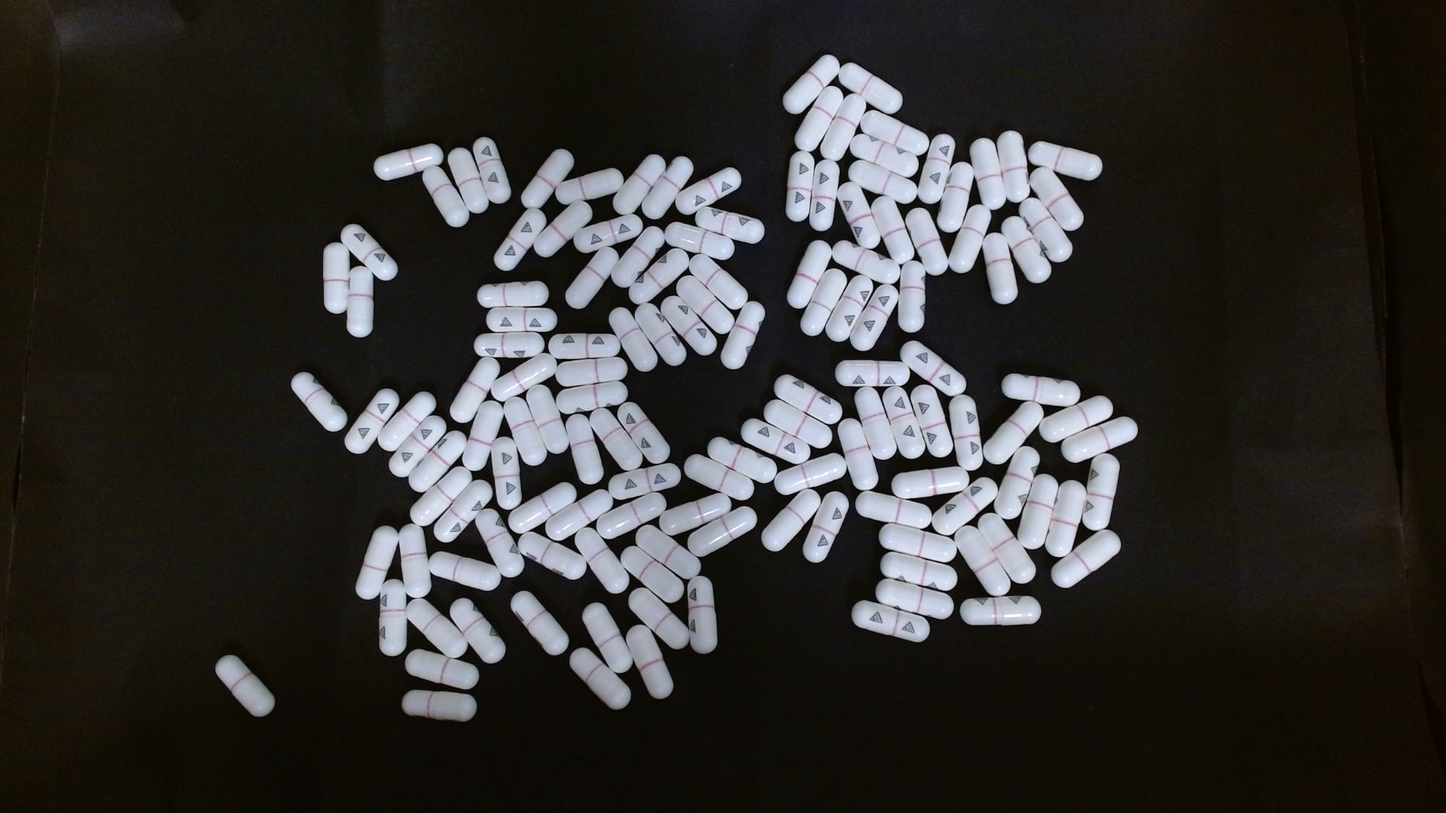Capsule: (978, 511, 1038, 586), (953, 523, 1014, 595), (1051, 529, 1122, 590), (431, 474, 493, 542), (930, 475, 999, 536), (406, 595, 470, 660), (627, 586, 688, 654), (535, 197, 603, 258), (1057, 414, 1139, 464), (410, 464, 473, 529), (762, 488, 822, 556), (634, 523, 703, 582), (1017, 196, 1075, 266), (620, 544, 686, 605), (1027, 165, 1086, 233), (640, 151, 696, 222), (214, 654, 276, 718), (475, 508, 530, 580), (377, 388, 436, 455), (899, 340, 968, 397), (573, 526, 630, 595), (1039, 394, 1116, 445), (676, 273, 737, 337), (510, 590, 569, 656), (609, 224, 668, 290), (566, 245, 624, 312), (685, 505, 758, 558), (580, 602, 633, 675), (388, 414, 448, 478), (408, 429, 467, 494), (544, 487, 615, 541), (626, 247, 692, 305), (763, 398, 835, 451), (510, 481, 578, 537), (517, 529, 587, 583), (984, 400, 1043, 464), (686, 253, 750, 312), (589, 406, 645, 473), (992, 444, 1040, 522), (343, 387, 398, 455), (837, 59, 905, 114), (660, 294, 717, 359), (775, 374, 845, 426), (611, 152, 667, 217), (606, 303, 658, 373), (617, 401, 672, 467), (868, 195, 917, 269), (570, 647, 629, 708), (853, 385, 898, 464), (519, 147, 576, 209), (848, 157, 920, 206), (706, 436, 778, 485), (674, 166, 743, 217), (450, 596, 504, 661), (682, 454, 755, 502), (800, 266, 850, 336), (861, 106, 931, 156), (1017, 472, 1060, 553), (741, 417, 815, 464), (879, 523, 958, 567), (449, 357, 500, 425), (660, 490, 737, 535), (818, 93, 868, 162), (633, 301, 685, 367), (340, 222, 397, 282), (490, 352, 557, 403), (291, 372, 346, 434), (495, 207, 549, 270), (1045, 479, 1088, 558), (355, 523, 399, 600), (829, 275, 876, 347), (719, 301, 768, 370), (429, 550, 504, 595), (793, 86, 844, 152), (851, 599, 931, 641), (802, 492, 850, 562), (627, 626, 673, 699), (880, 548, 958, 591), (502, 396, 549, 467), (881, 385, 925, 460), (1001, 215, 1048, 285), (597, 492, 667, 539), (462, 398, 506, 472), (849, 131, 919, 177), (834, 182, 880, 252), (830, 239, 898, 286), (947, 202, 992, 273), (905, 207, 950, 278), (663, 220, 739, 262), (781, 57, 837, 114), (772, 453, 844, 497), (606, 462, 683, 503), (959, 592, 1044, 629), (836, 417, 879, 490), (1079, 452, 1120, 528), (917, 133, 960, 204), (526, 384, 569, 455), (875, 578, 953, 617), (405, 649, 479, 690), (853, 282, 898, 349), (789, 239, 832, 309), (981, 231, 1021, 306), (694, 205, 767, 246), (1029, 139, 1103, 179), (564, 412, 605, 484), (936, 160, 975, 235), (422, 166, 468, 228), (856, 490, 931, 528), (472, 136, 512, 207), (572, 213, 643, 253), (911, 385, 951, 455), (969, 136, 1006, 211), (947, 394, 985, 467), (554, 167, 624, 206), (892, 466, 966, 502), (1002, 372, 1080, 406), (450, 148, 490, 213), (489, 434, 523, 510), (996, 129, 1031, 201), (397, 524, 431, 598), (835, 358, 916, 389), (373, 145, 442, 181), (556, 382, 628, 416), (401, 690, 477, 722), (483, 303, 559, 334), (809, 160, 841, 233), (377, 579, 408, 654), (687, 574, 716, 653), (784, 150, 815, 223), (555, 358, 627, 388), (345, 265, 374, 338), (322, 242, 351, 314), (472, 332, 547, 359), (898, 261, 926, 333), (549, 331, 620, 359), (477, 280, 550, 307)
